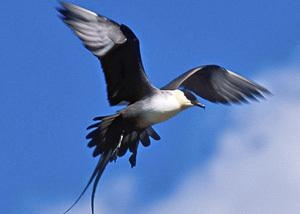bird: (53, 1, 271, 188)
